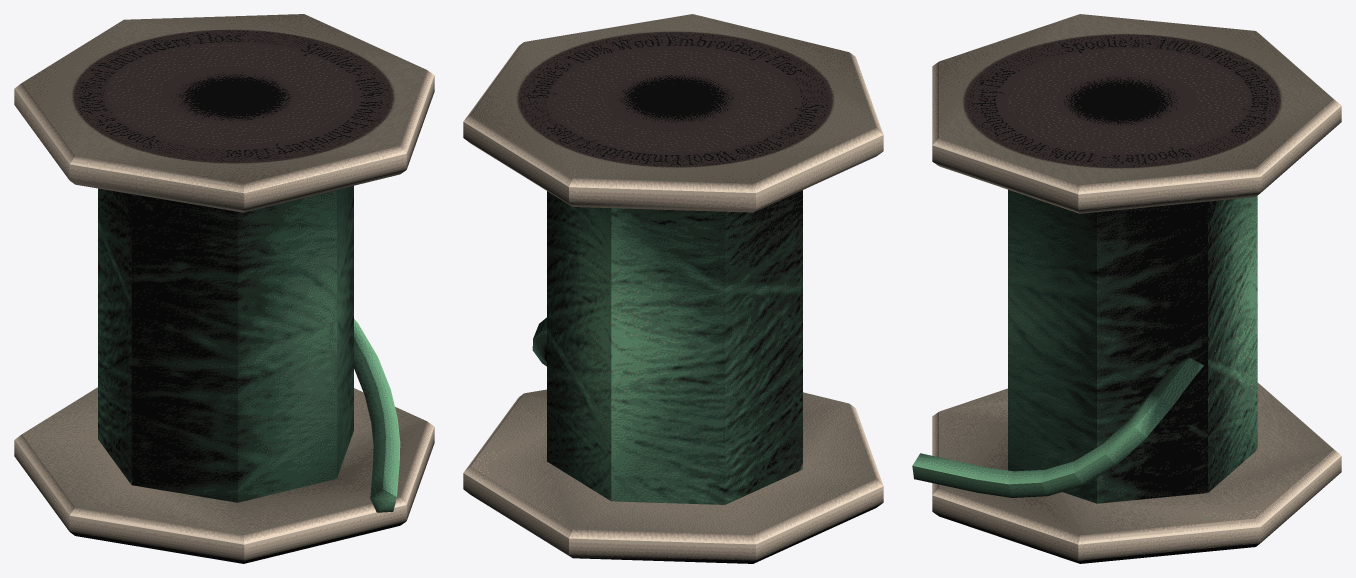
The model's file is LD56_Spool.fbx.
3 renders of one model, left to right at view 1: azimuth 30°, elevation 25°; view 2: azimuth 150°, elevation 25°; view 3: azimuth 270°, elevation 25°, orthographic.
Parts seen in each view (by area): view 1: spool; view 2: spool; view 3: spool.
Part boxes in pixels (x1,y1,x2,y2): spool: (14,14,434,563); spool: (463,14,883,563); spool: (912,14,1341,563).
Size of the model in its own units: 237 by 236 by 242.
